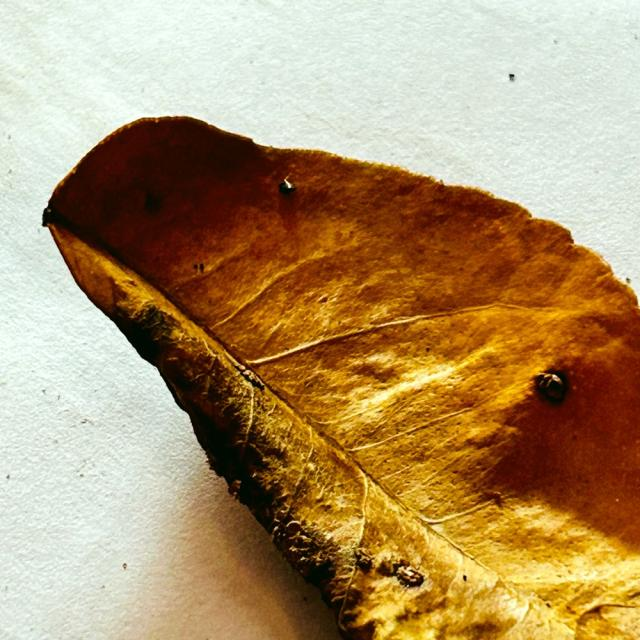DryLeaf_Lemon: (43, 117, 639, 639)
